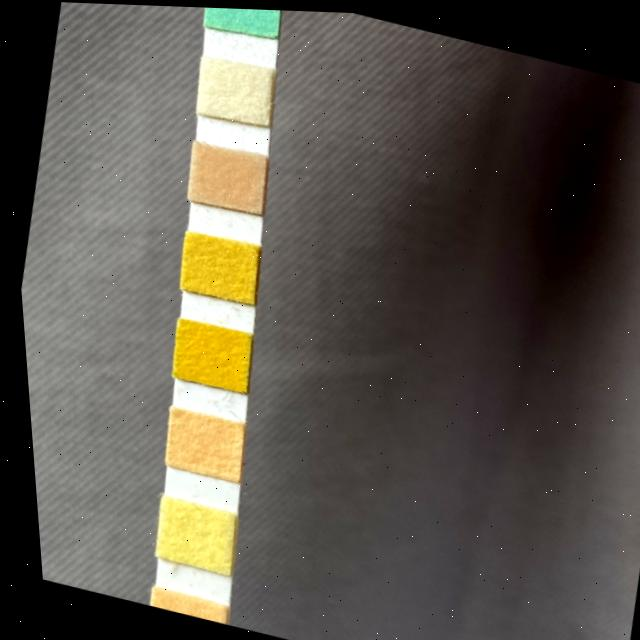Bilirubin: (191, 55, 275, 124)
Blood: (163, 318, 249, 390)
Glucose: (205, 6, 284, 36)
Ketone: (180, 140, 269, 214)
Protein: (144, 495, 233, 573)
SpGravity: (172, 230, 259, 302)
Urobilinogen: (142, 588, 219, 623)
pH: (155, 406, 240, 480)
